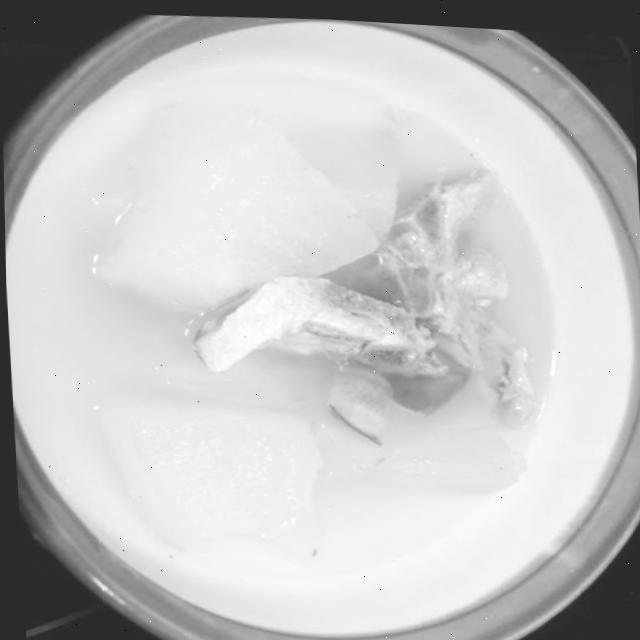汤锅炖物: (6, 38, 605, 632)
